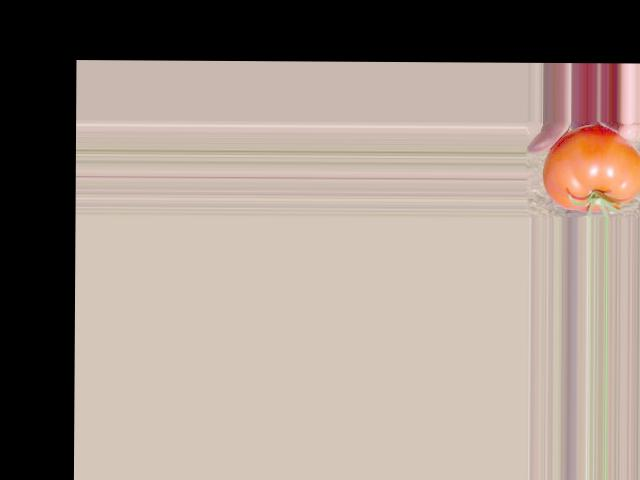tomato: (544, 125, 640, 212)
